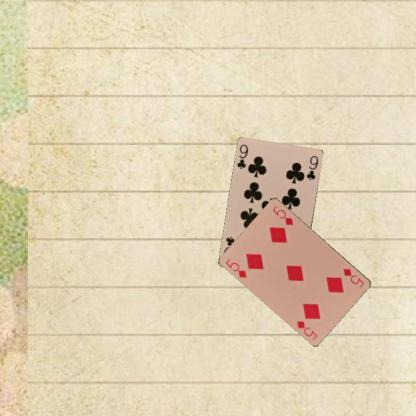5d: (341, 265, 366, 290), (223, 256, 248, 279)
9c: (235, 142, 250, 171)
